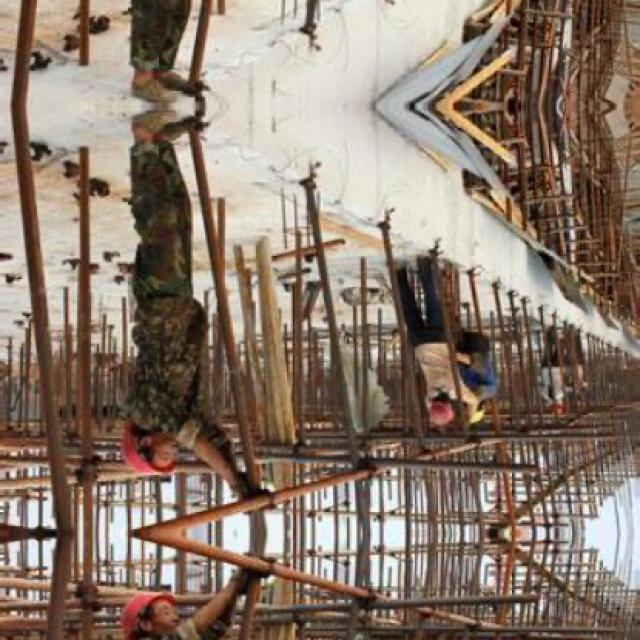con casco: (112, 416, 210, 491), (405, 392, 474, 444)
